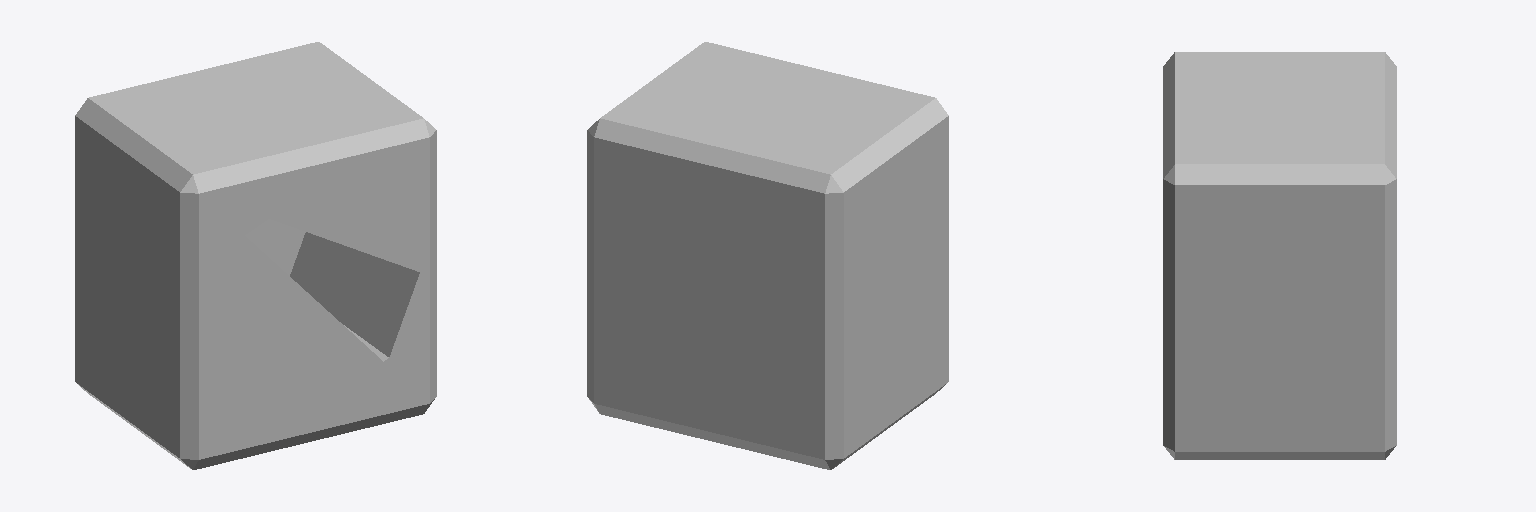
Rendered from Octo Rock.obj.
3 views of the same model, side by side, from view 1: azimuth 30°, elevation 25°; view 2: azimuth 150°, elevation 25°; view 3: azimuth 270°, elevation 25° (orthographic).
Parts seen in each view (by area): view 1: Cube.006_Cube.007; view 2: Cube.006_Cube.007; view 3: Cube.006_Cube.007.
Part boxes in pixels (left/top/right/bottom): Cube.006_Cube.007: left=75, top=42, right=436, bottom=469; Cube.006_Cube.007: left=587, top=42, right=948, bottom=469; Cube.006_Cube.007: left=1163, top=52, right=1396, bottom=459.
Size of the model in its own units: 1.83 by 2.02 by 1.44.